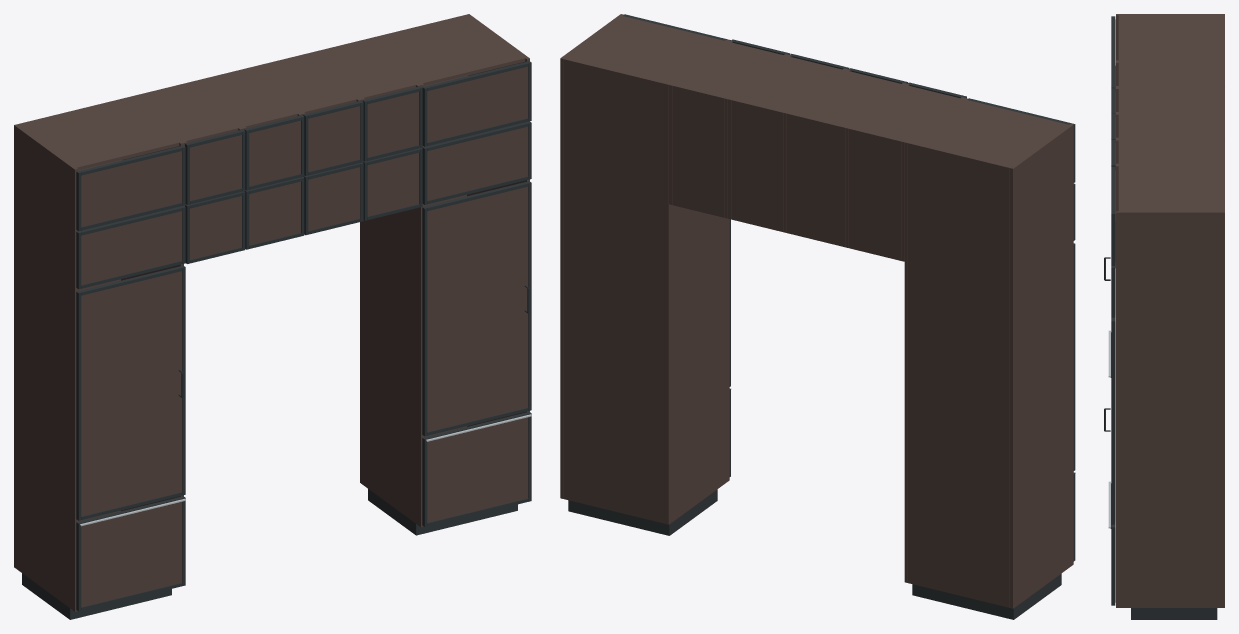
Rendered from analoque-brown-walk-in-wardrobe-cabinet.glb.
3 views of the same model, side by side, from view 1: azimuth 30°, elevation 25°; view 2: azimuth 150°, elevation 25°; view 3: azimuth 270°, elevation 25° (orthographic). The views are drawn at different scales.
Parts seen in each view (by area): view 1: Left wardrobe tower / Tower gables, Left wardrobe tower / Tall wardrobe door inset panel, Right wardrobe tower / Tall wardrobe door inset panel, Right wardrobe tower / Tower gables, Right wardrobe tower / Lower drawer inset panel, Left wardrobe tower / Lower drawer inset panel, Right wardrobe tower / Tower shelves, Left wardrobe tower / Tower shelves, Right wardrobe tower / Top storage inset panel, Left wardrobe tower / Top storage inset panel, Left wardrobe tower / Tower overhead inset panel, Right wardrobe tower / Tower overhead inset panel (+30 smaller); view 2: Right wardrobe tower / Tower back, Left wardrobe tower / Tower back, Left wardrobe tower / Tower gables, Right wardrobe tower / Tower gables, Left wardrobe tower / Tower shelves, Right wardrobe tower / Tower shelves, Wardrobe bridge 1 / Top cupboard back, Wardrobe bridge 2 / Top cupboard back, Wardrobe bridge 3 / Top cupboard back, Wardrobe bridge 0 / Top cupboard back, Wardrobe bridge 3 / Bridge cupboard back, Wardrobe bridge 1 / Bridge cupboard back (+12 smaller); view 3: Right wardrobe tower / Tower gables, Left wardrobe tower / Tower shelves, Right wardrobe tower / Tower shelves, Wardrobe bridge 2 / Top cupboard shelves, Wardrobe bridge 3 / Top cupboard shelves, Wardrobe bridge 0 / Top cupboard shelves, Wardrobe bridge 1 / Top cupboard shelves, Right wardrobe tower / Toe kick, Right wardrobe tower / Tall wardrobe door edge extrusion, Left wardrobe tower / Tower gables, Wardrobe bridge 0 / Top cupboard gables, Wardrobe bridge 1 / Top cupboard gables (+7 smaller).
Part boxes in pixels (<box>): Left wardrobe tower / Tower gables: <box>14,98,183,611</box>; Left wardrobe tower / Tall wardrobe door inset panel: <box>81,271,182,516</box>; Right wardrobe tower / Tall wardrobe door inset panel: <box>427,187,528,431</box>; Right wardrobe tower / Tower gables: <box>360,14,529,527</box>; Right wardrobe tower / Lower drawer inset panel: <box>427,417,528,522</box>; Left wardrobe tower / Lower drawer inset panel: <box>81,502,182,607</box>; Right wardrobe tower / Tower shelves: <box>365,16,525,86</box>; Left wardrobe tower / Tower shelves: <box>19,100,179,170</box>; Right wardrobe tower / Top storage inset panel: <box>427,66,528,142</box>; Left wardrobe tower / Top storage inset panel: <box>81,151,182,226</box>; Left wardrobe tower / Tower overhead inset panel: <box>81,211,182,285</box>; Right wardrobe tower / Tower overhead inset panel: <box>427,126,528,200</box>; Right wardrobe tower / Tower back: <box>563,58,666,523</box>; Left wardrobe tower / Tower back: <box>908,142,1010,607</box>; Left wardrobe tower / Tower gables: <box>904,98,1073,608</box>; Right wardrobe tower / Tower gables: <box>560,14,729,524</box>; Left wardrobe tower / Tower shelves: <box>909,100,1068,166</box>; Right wardrobe tower / Tower shelves: <box>565,16,724,82</box>; Wardrobe bridge 1 / Top cupboard back: <box>790,113,842,187</box>; Wardrobe bridge 2 / Top cupboard back: <box>731,99,783,173</box>; Wardrobe bridge 3 / Top cupboard back: <box>672,85,725,158</box>; Wardrobe bridge 0 / Top cupboard back: <box>849,128,901,201</box>; Wardrobe bridge 3 / Bridge cupboard back: <box>672,146,724,217</box>; Wardrobe bridge 1 / Bridge cupboard back: <box>790,175,842,246</box>; Right wardrobe tower / Tower gables: <box>1116,165,1224,607</box>; Left wardrobe tower / Tower shelves: <box>1118,15,1222,60</box>; Right wardrobe tower / Tower shelves: <box>1118,166,1222,211</box>; Wardrobe bridge 2 / Top cupboard shelves: <box>1118,114,1222,137</box>; Wardrobe bridge 3 / Top cupboard shelves: <box>1118,140,1222,163</box>; Wardrobe bridge 0 / Top cupboard shelves: <box>1118,63,1222,85</box>; Wardrobe bridge 1 / Top cupboard shelves: <box>1118,89,1222,111</box>; Right wardrobe tower / Toe kick: <box>1131,608,1217,619</box>; Right wardrobe tower / Tall wardrobe door edge extrusion: <box>1111,317,1115,524</box>; Left wardrobe tower / Tower gables: <box>1116,14,1224,61</box>; Wardrobe bridge 0 / Top cupboard gables: <box>1116,61,1224,87</box>; Wardrobe bridge 1 / Top cupboard gables: <box>1116,87,1224,113</box>.
Size of the model in its own units: 2.5 by 2.4 by 0.643.
